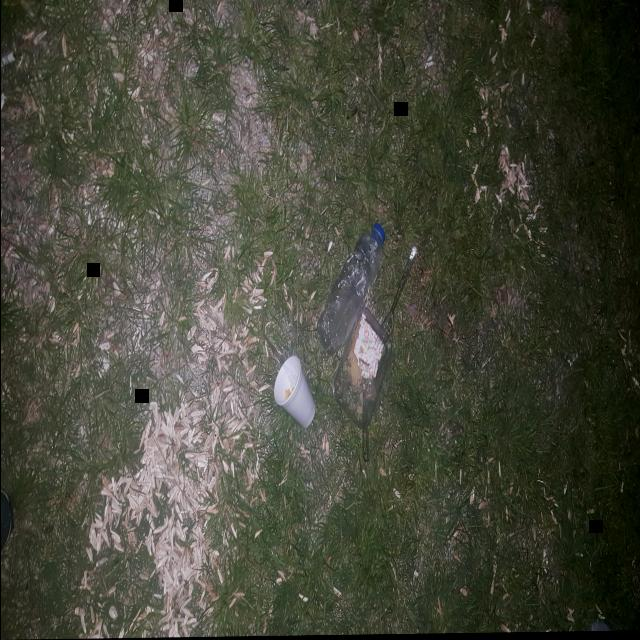Clear plastic bottle: (316, 224, 384, 358)
Disposable food container: (332, 309, 392, 431)
Foam cup: (273, 356, 315, 430)
Plastic bottle cap: (371, 224, 384, 244)
Plastic utensils: (373, 248, 416, 357), (261, 333, 297, 393), (358, 360, 370, 463)
